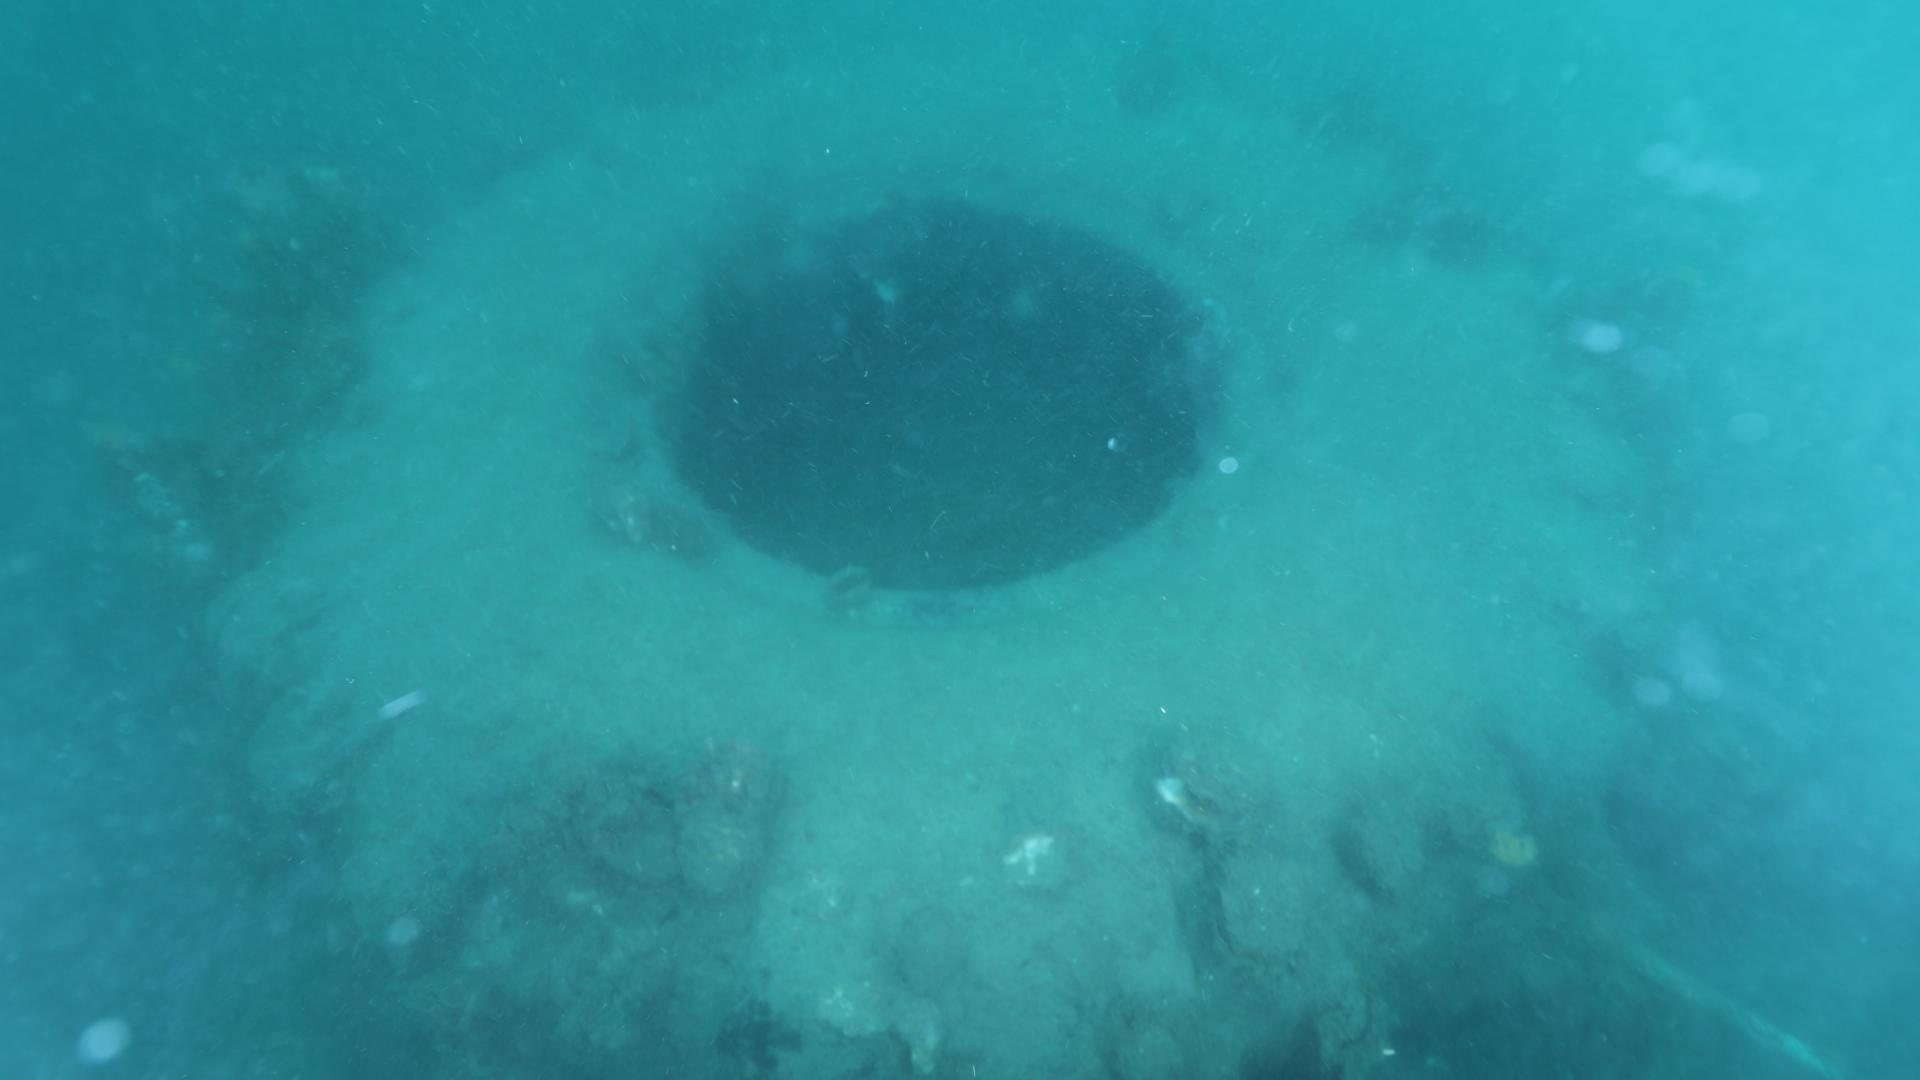tire: (196, 36, 1650, 1080)
